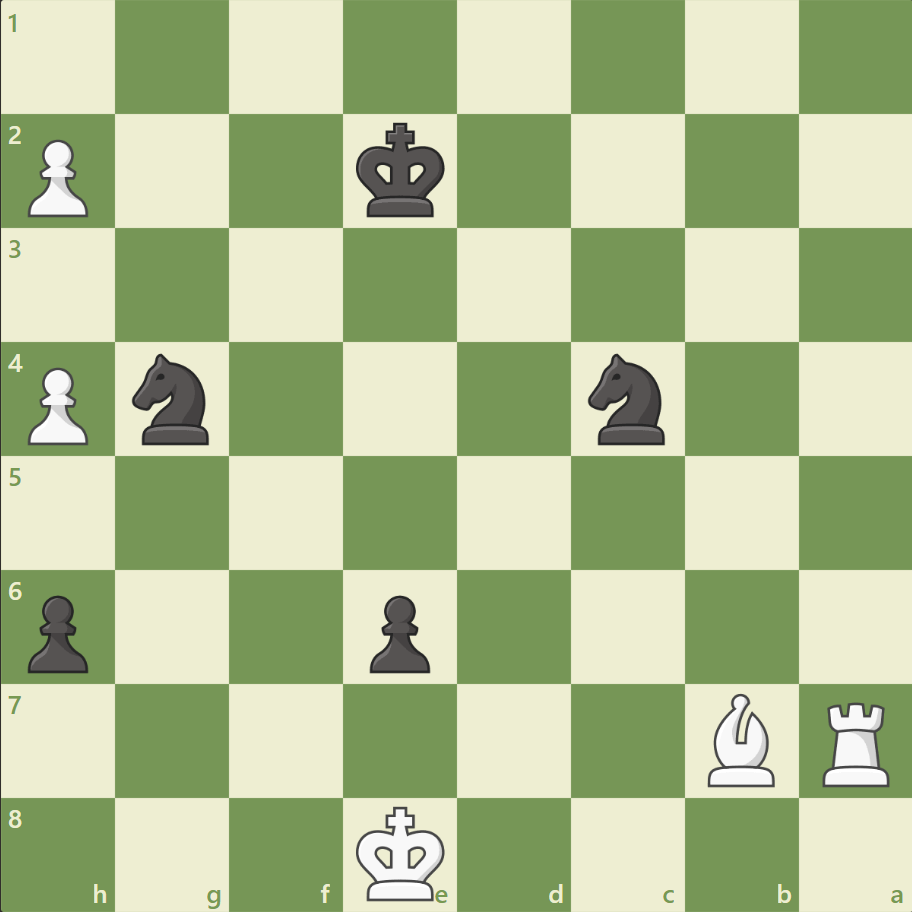B: (698, 687, 782, 790)
K: (351, 798, 451, 906)
P: (20, 359, 95, 450), (20, 132, 95, 223)
R: (814, 693, 897, 790)
k: (351, 117, 451, 225)
n: (124, 348, 222, 450), (579, 348, 676, 450)
p: (20, 586, 95, 677), (361, 586, 435, 677)
